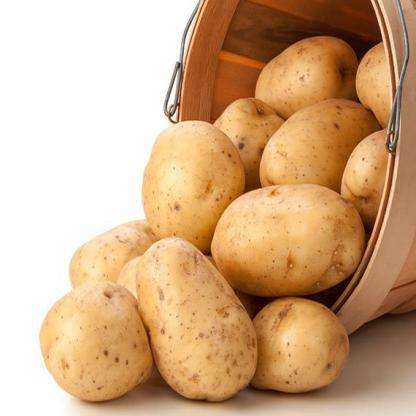potato: (130, 229, 256, 412), (202, 178, 380, 302), (34, 273, 168, 415), (126, 109, 252, 242), (244, 274, 356, 415), (256, 83, 380, 190), (241, 46, 365, 118)
